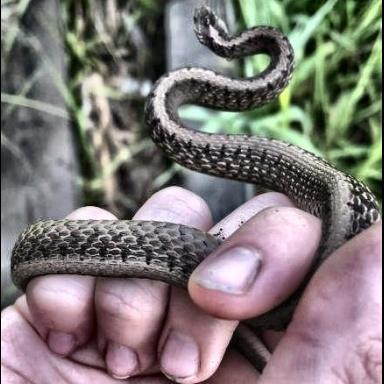snake: (144, 9, 380, 292), (11, 209, 226, 292)
